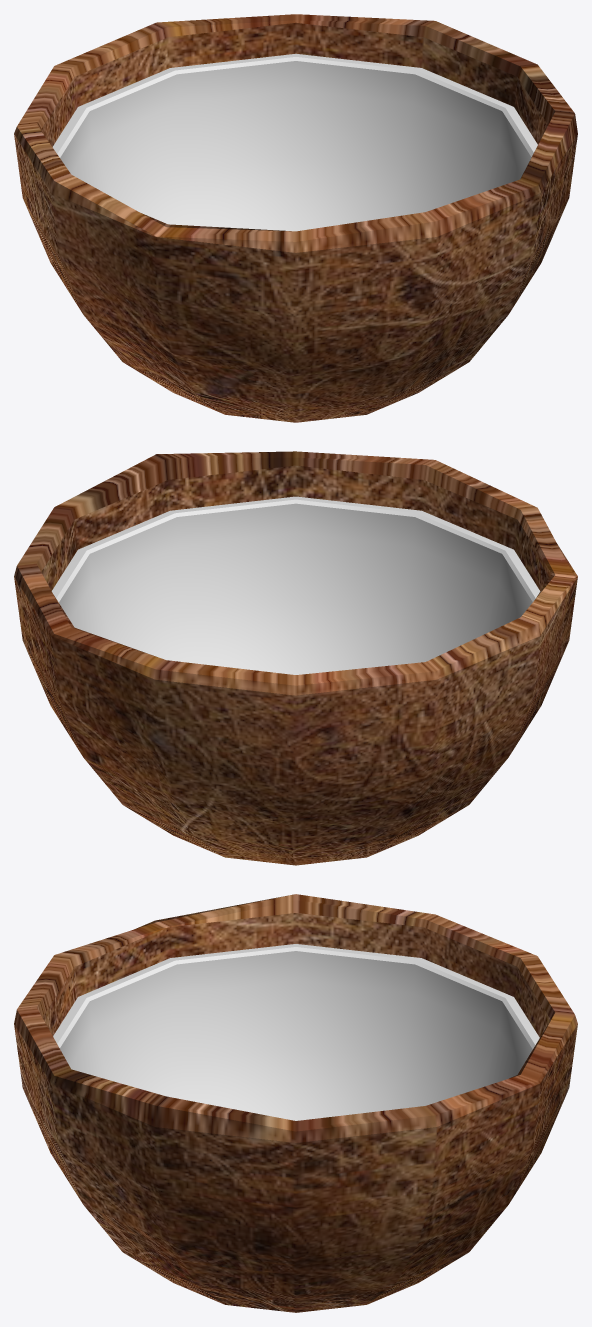
Rendered from Coconut_cup.fbx.
The picture shows the model from 3 angles, top to bottom: view 1: azimuth 30°, elevation 25°; view 2: azimuth 150°, elevation 25°; view 3: azimuth 270°, elevation 25°; orthographic projection.
Visible parts, largest first — view 1: Coconut_Cup; view 2: Coconut_Cup; view 3: Coconut_Cup.
Boxes of the visible parts, left/top/right/bottom form: Coconut_Cup: left=14, top=14, right=577, bottom=422; Coconut_Cup: left=14, top=451, right=577, bottom=865; Coconut_Cup: left=14, top=894, right=577, bottom=1312.
Bounding box in the file's own units: 2.2 × 1.24 × 2.2.
Materials: 2 (1 with a texture image).
